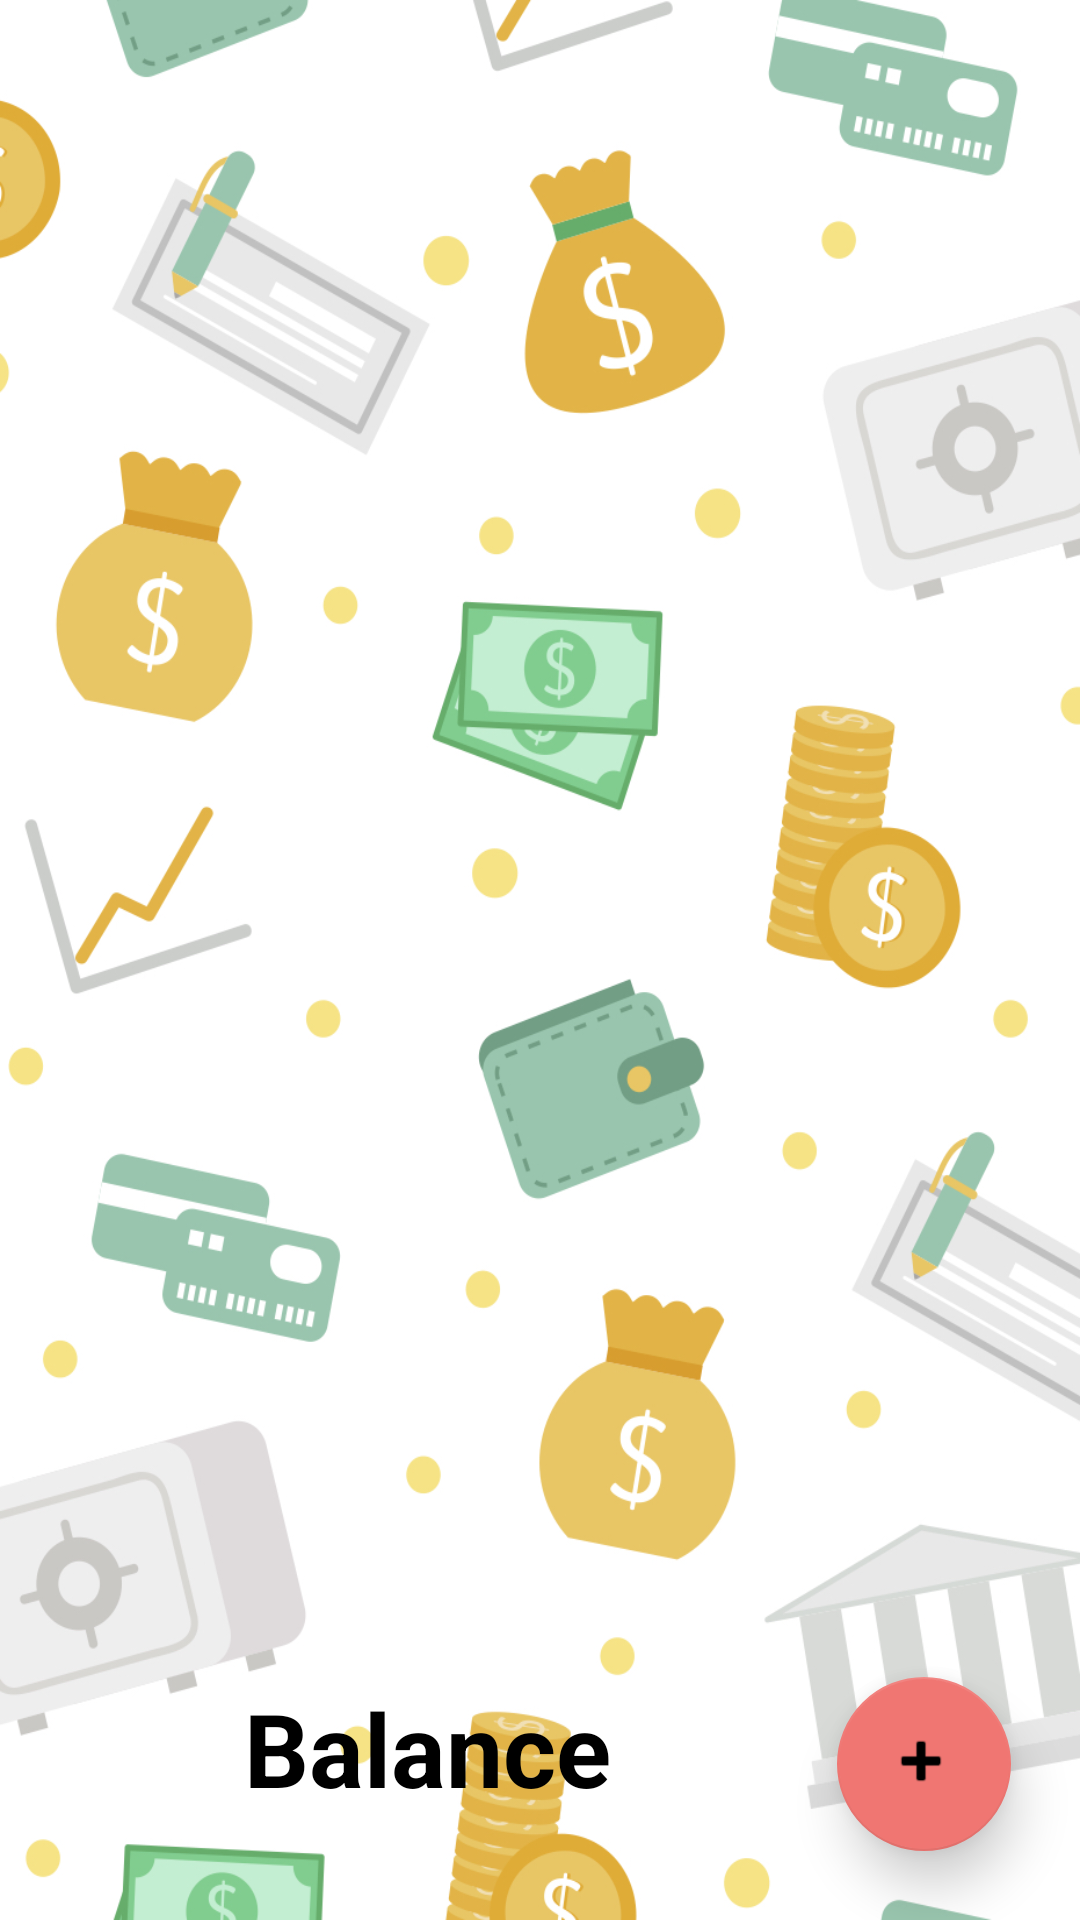

Icons on this 1080*1920 Android screen, each with the point to tap as [x,y]:
add: [924,1764]
